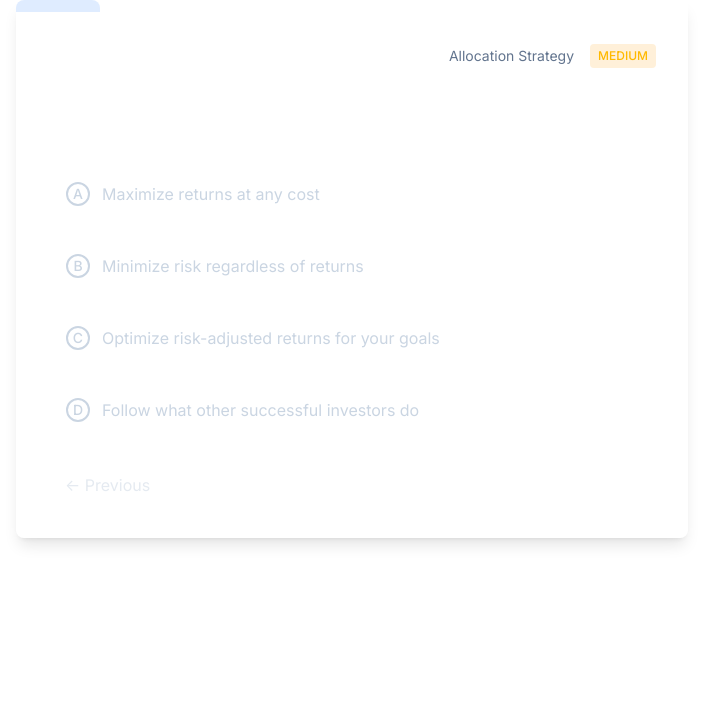
Scenario: PortfolioConstructionQuizEnhanced › displays explanations after submitting answers
Step 1. Click the button "A Maximize returns at any cost" → x=211, y=194, box [48,164,656,224]
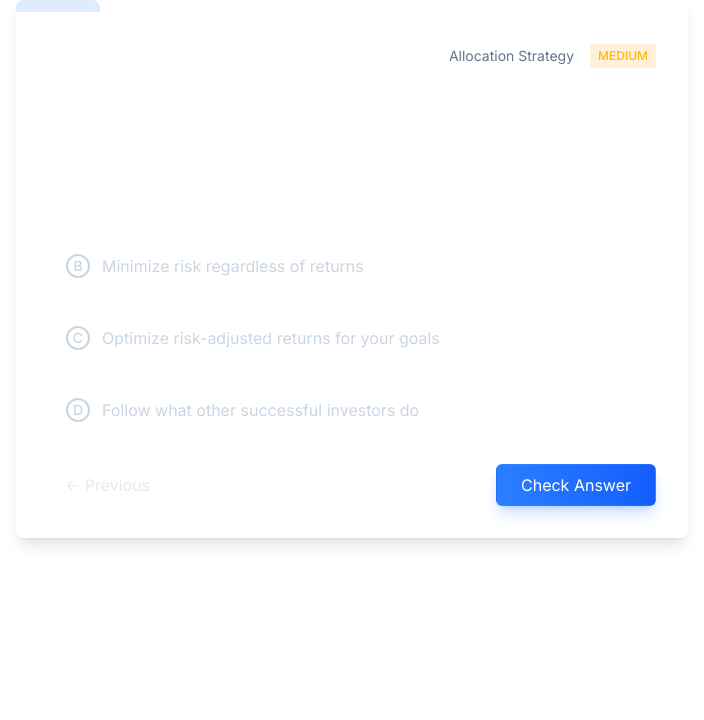
Step 2. Click the button "Check Answer" → x=576, y=485, box [496,464,656,506]
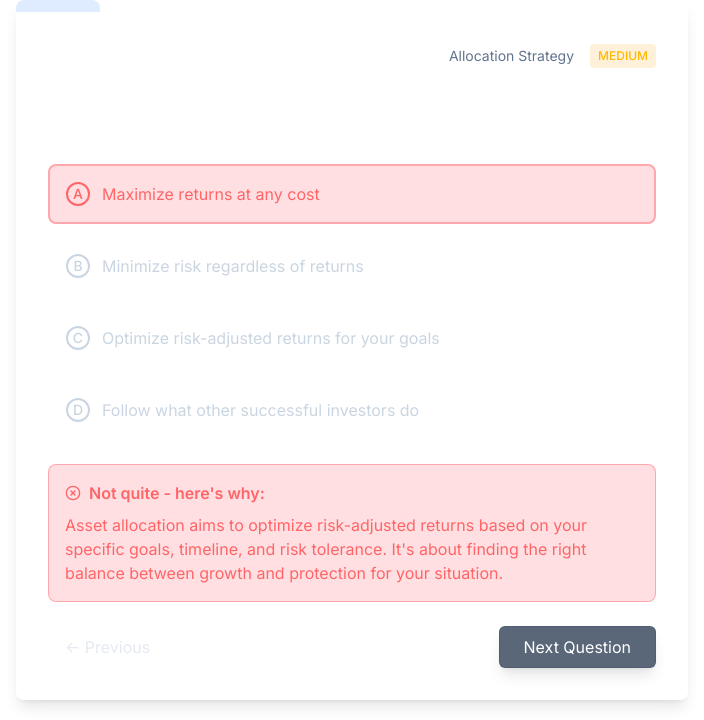
Expected: the heading "Not quite - here's why:" is shown, [65,483,265,503]
